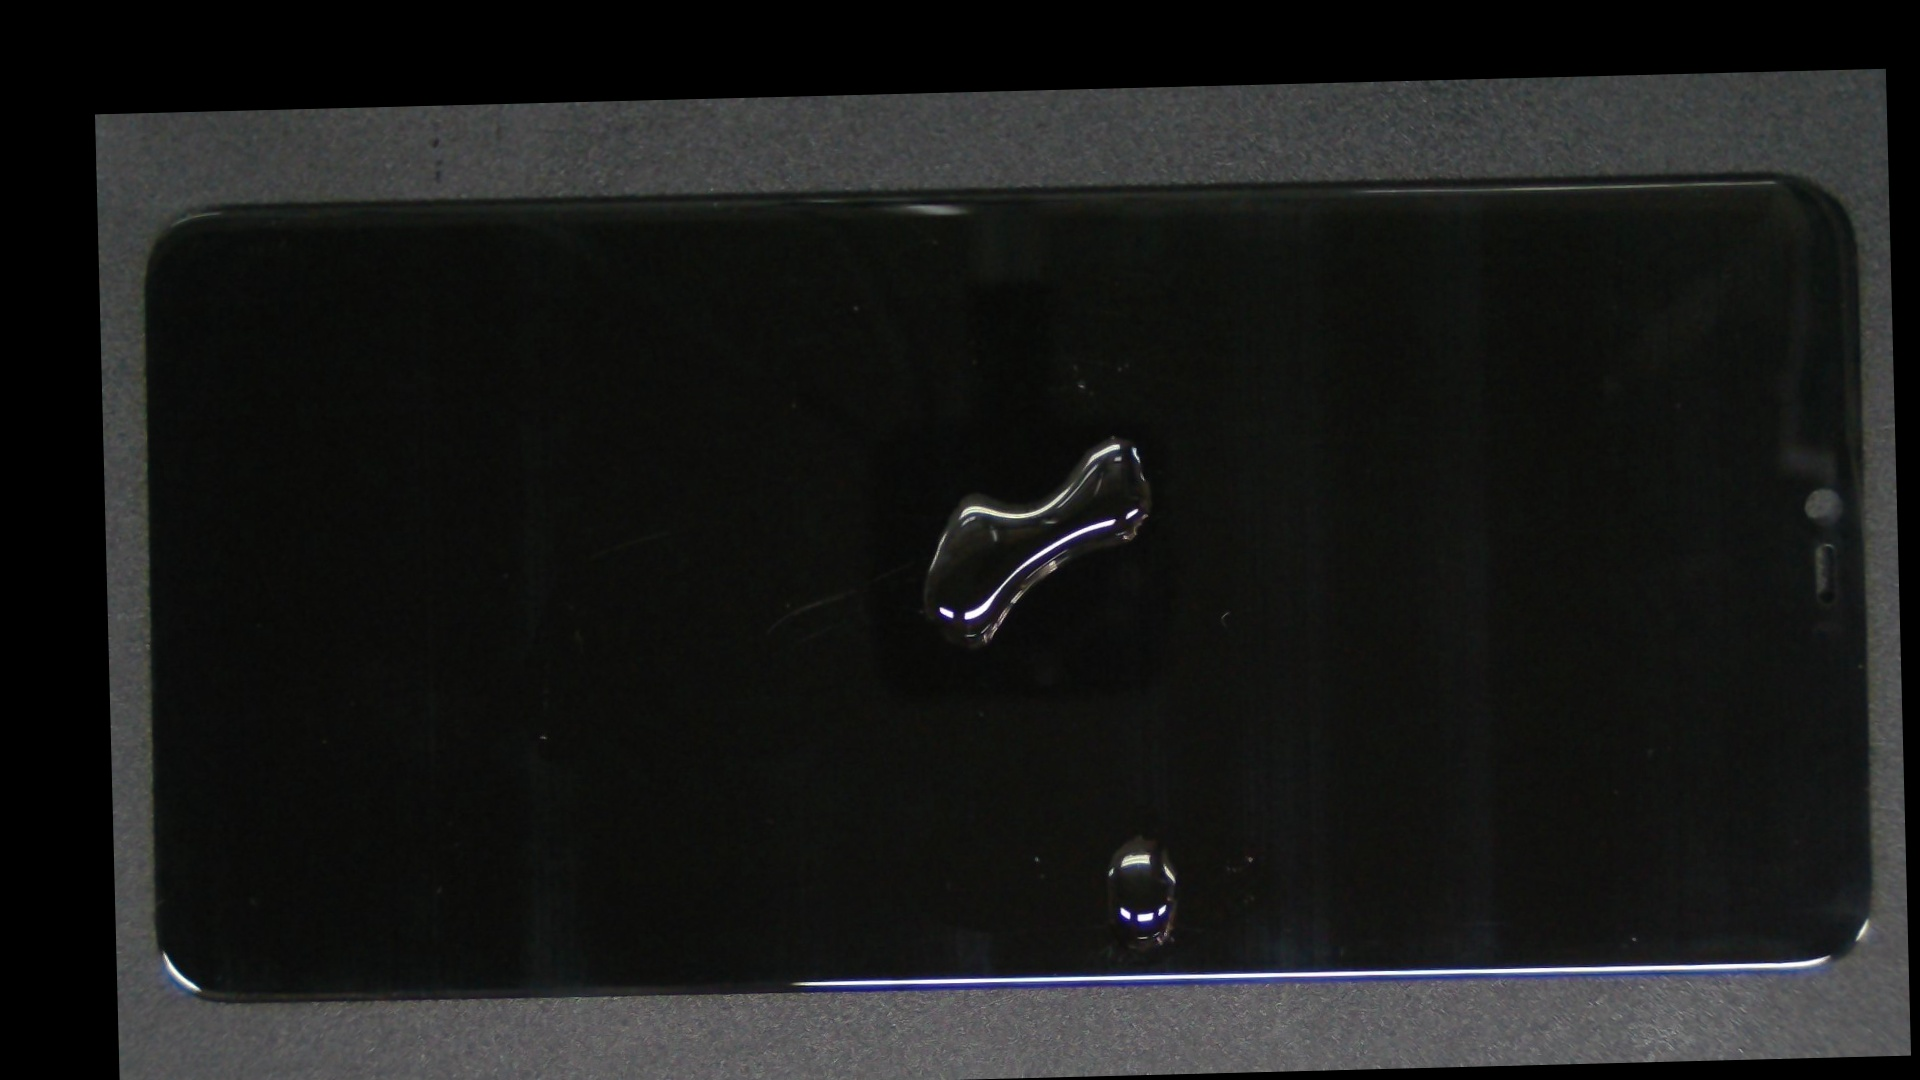oil: (618, 447, 1655, 1080), (604, 248, 1622, 621)
